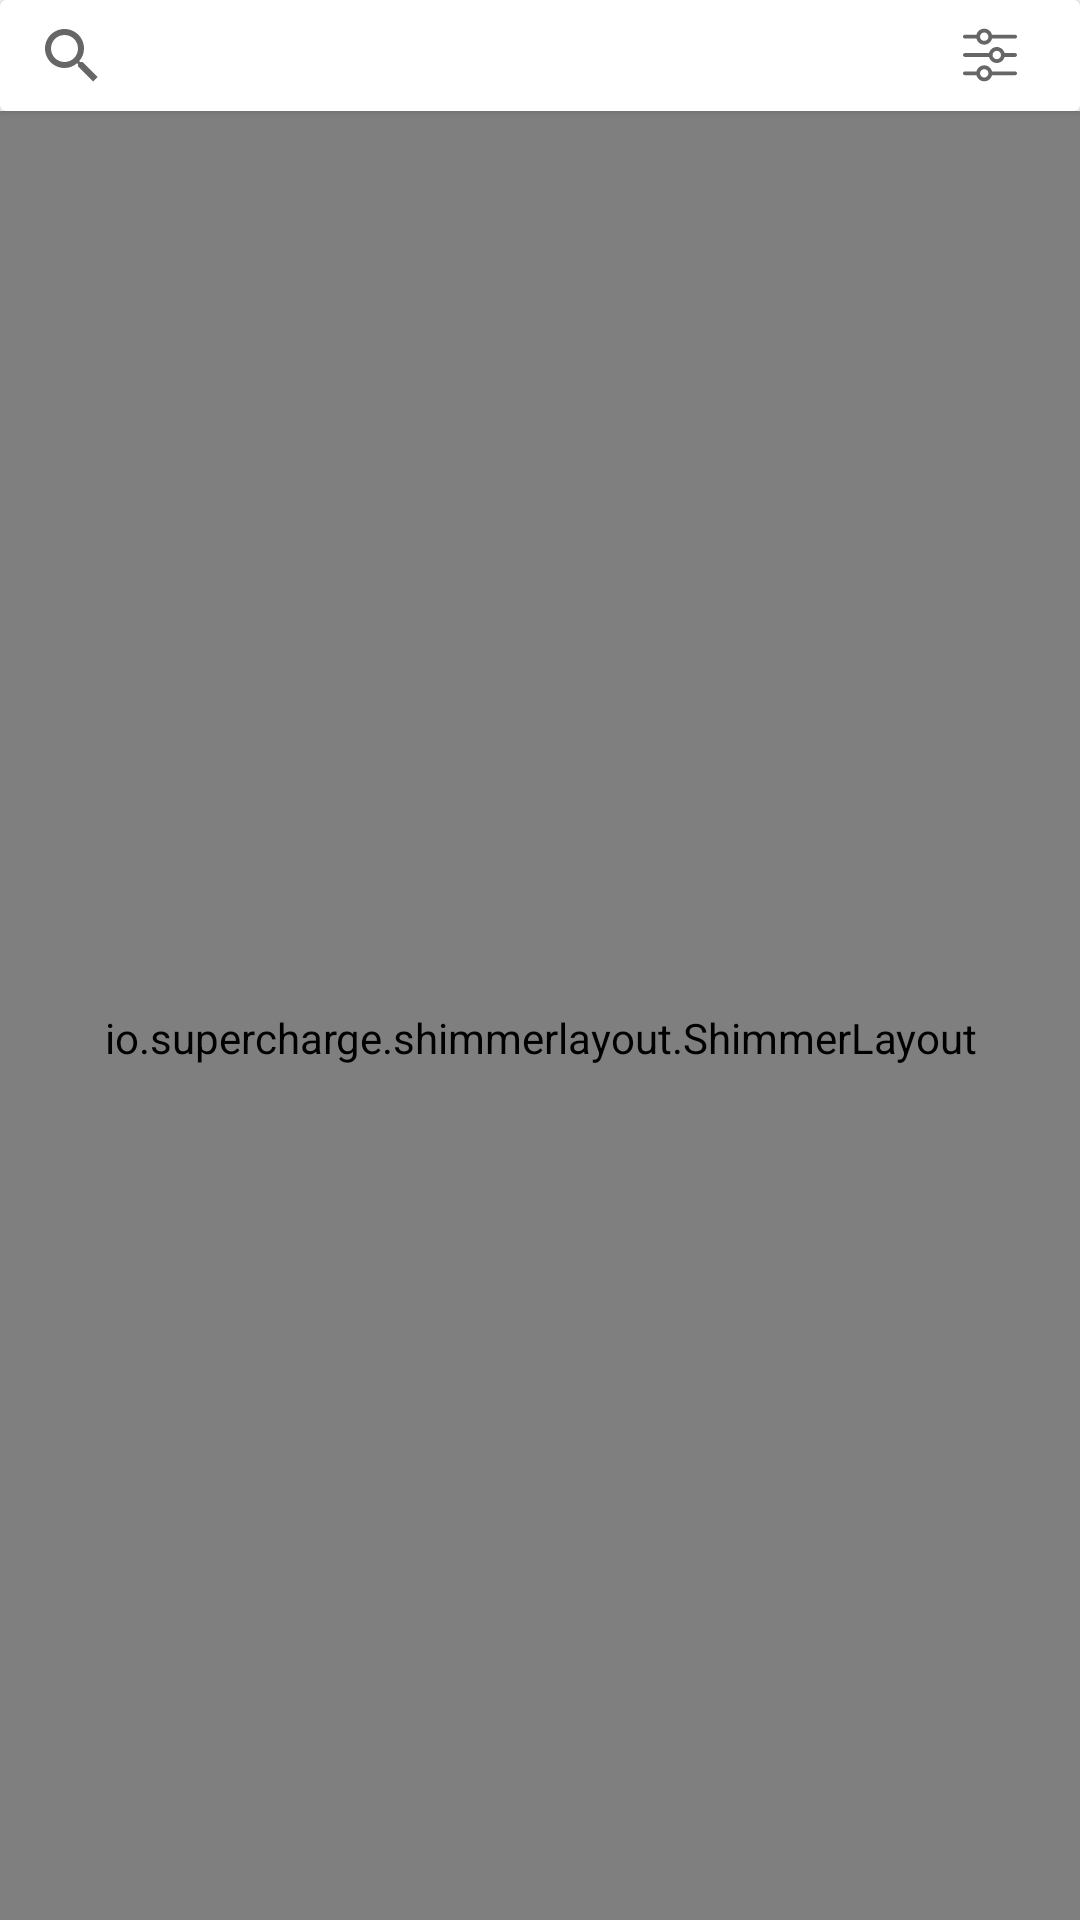

Icon click points for this 1080×1920 phone screenshot, format (x,y):
filter: (990,55)
